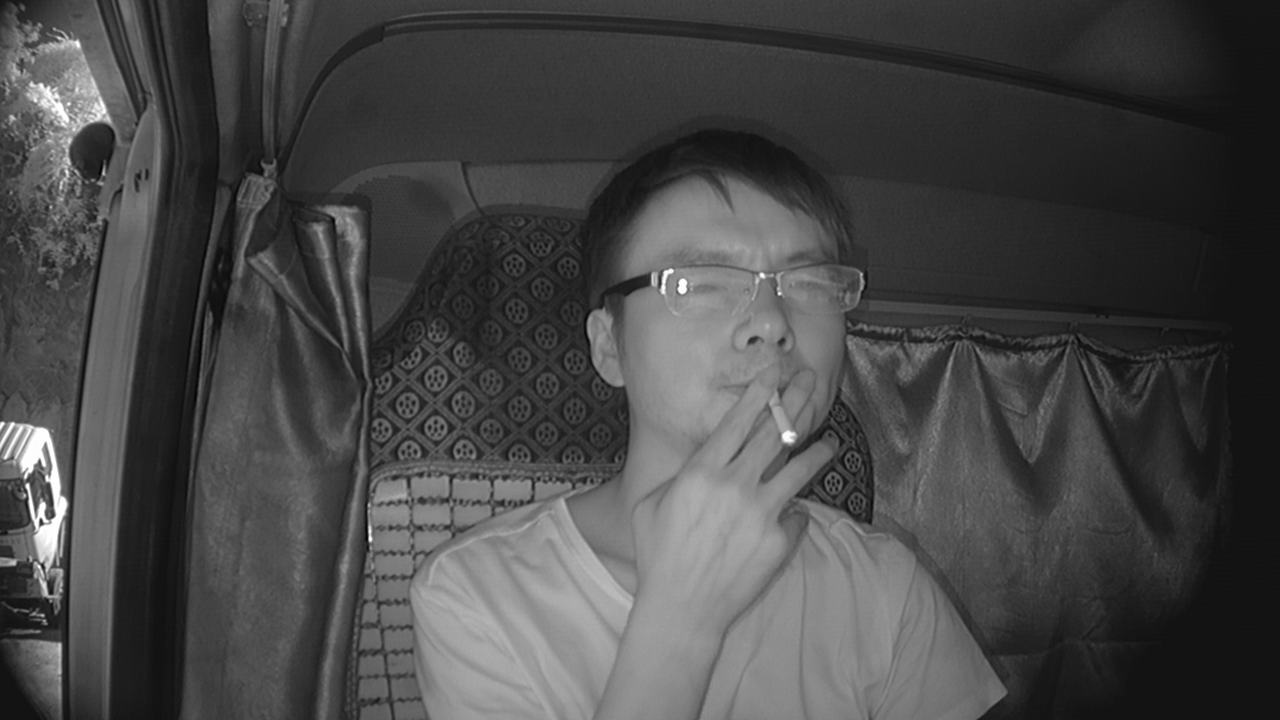hand: (671, 371, 826, 552)
